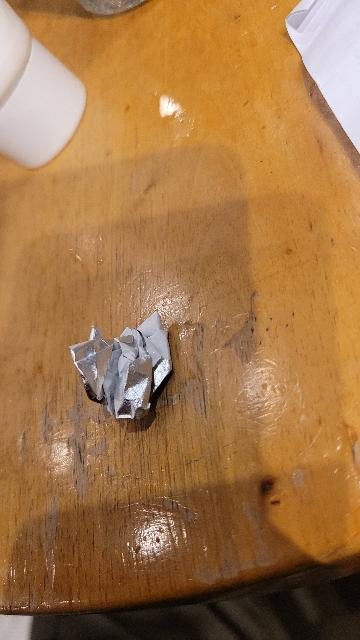Kagit: (61, 313, 175, 431)
